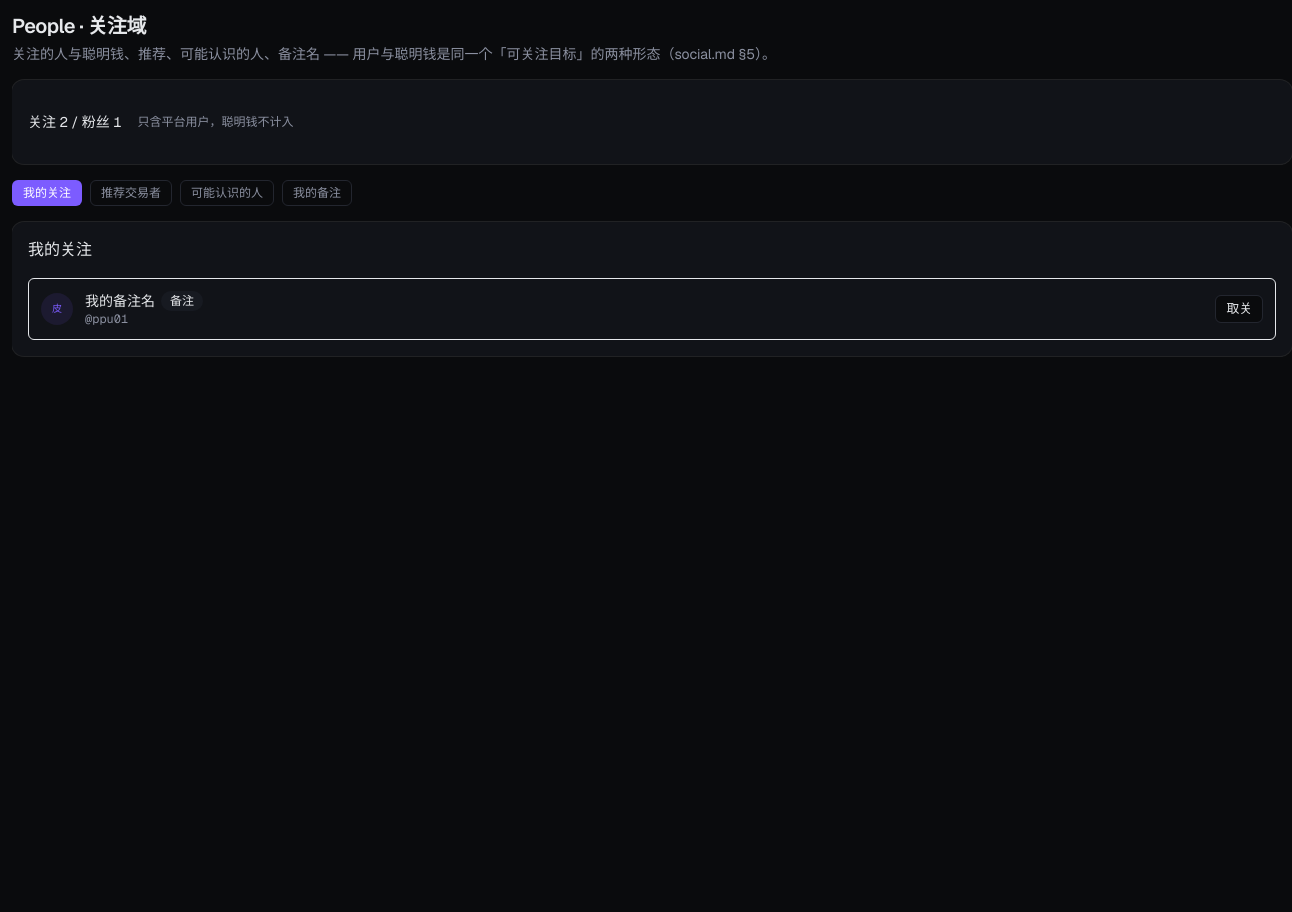
Test case: PeopleView 我的关注（混合列表） › 取关失败：行回滚原位 + ErrorPanel 面板
Expected: the link "我的备注名" is shown, [85,291,155,311]
Click the button "取关" at (1239, 309), box [1215,295,1263,323]
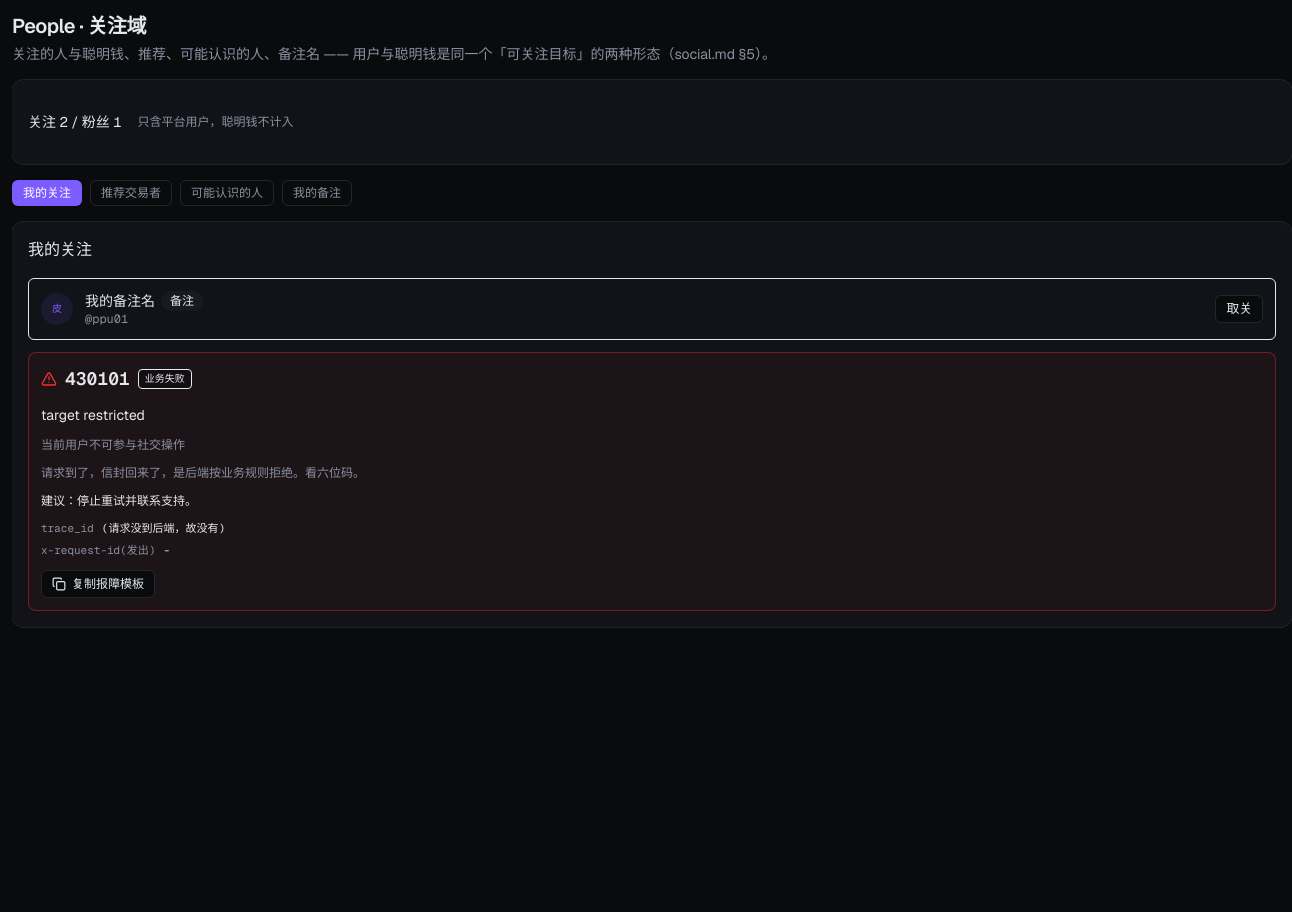
Expected: the link "我的备注名" is shown, [85,291,155,311]
Expected: the text "430101" is shown, [65,365,130,393]
